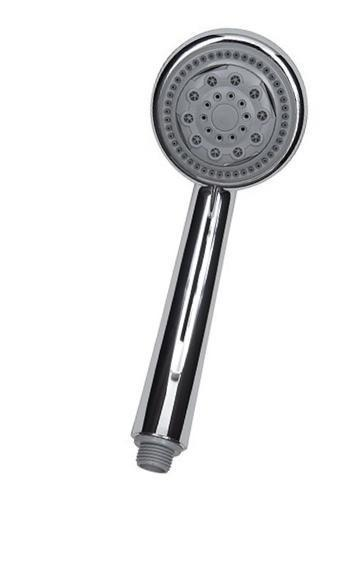Ducha: (117, 4, 335, 485)
